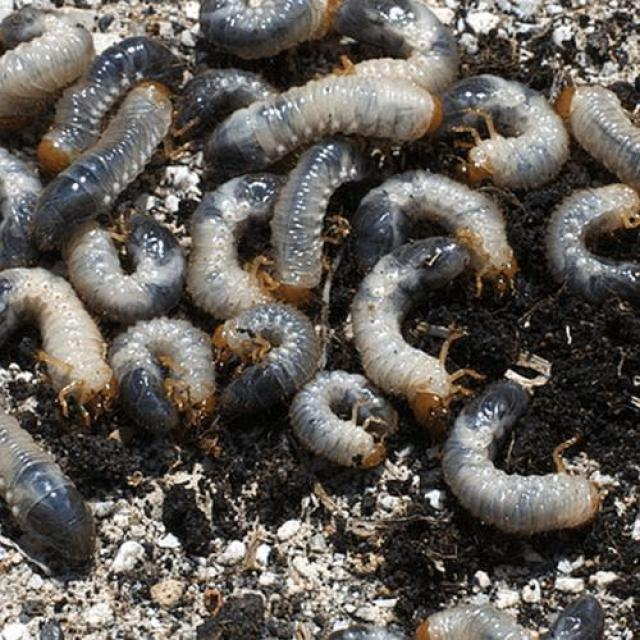Grub-Adult-: (25, 79, 184, 261), (347, 227, 479, 420), (442, 377, 604, 533), (206, 70, 448, 166), (182, 169, 300, 331), (348, 172, 520, 282), (442, 67, 579, 198), (61, 204, 193, 326), (212, 289, 326, 421), (105, 309, 224, 435), (280, 361, 400, 472)
